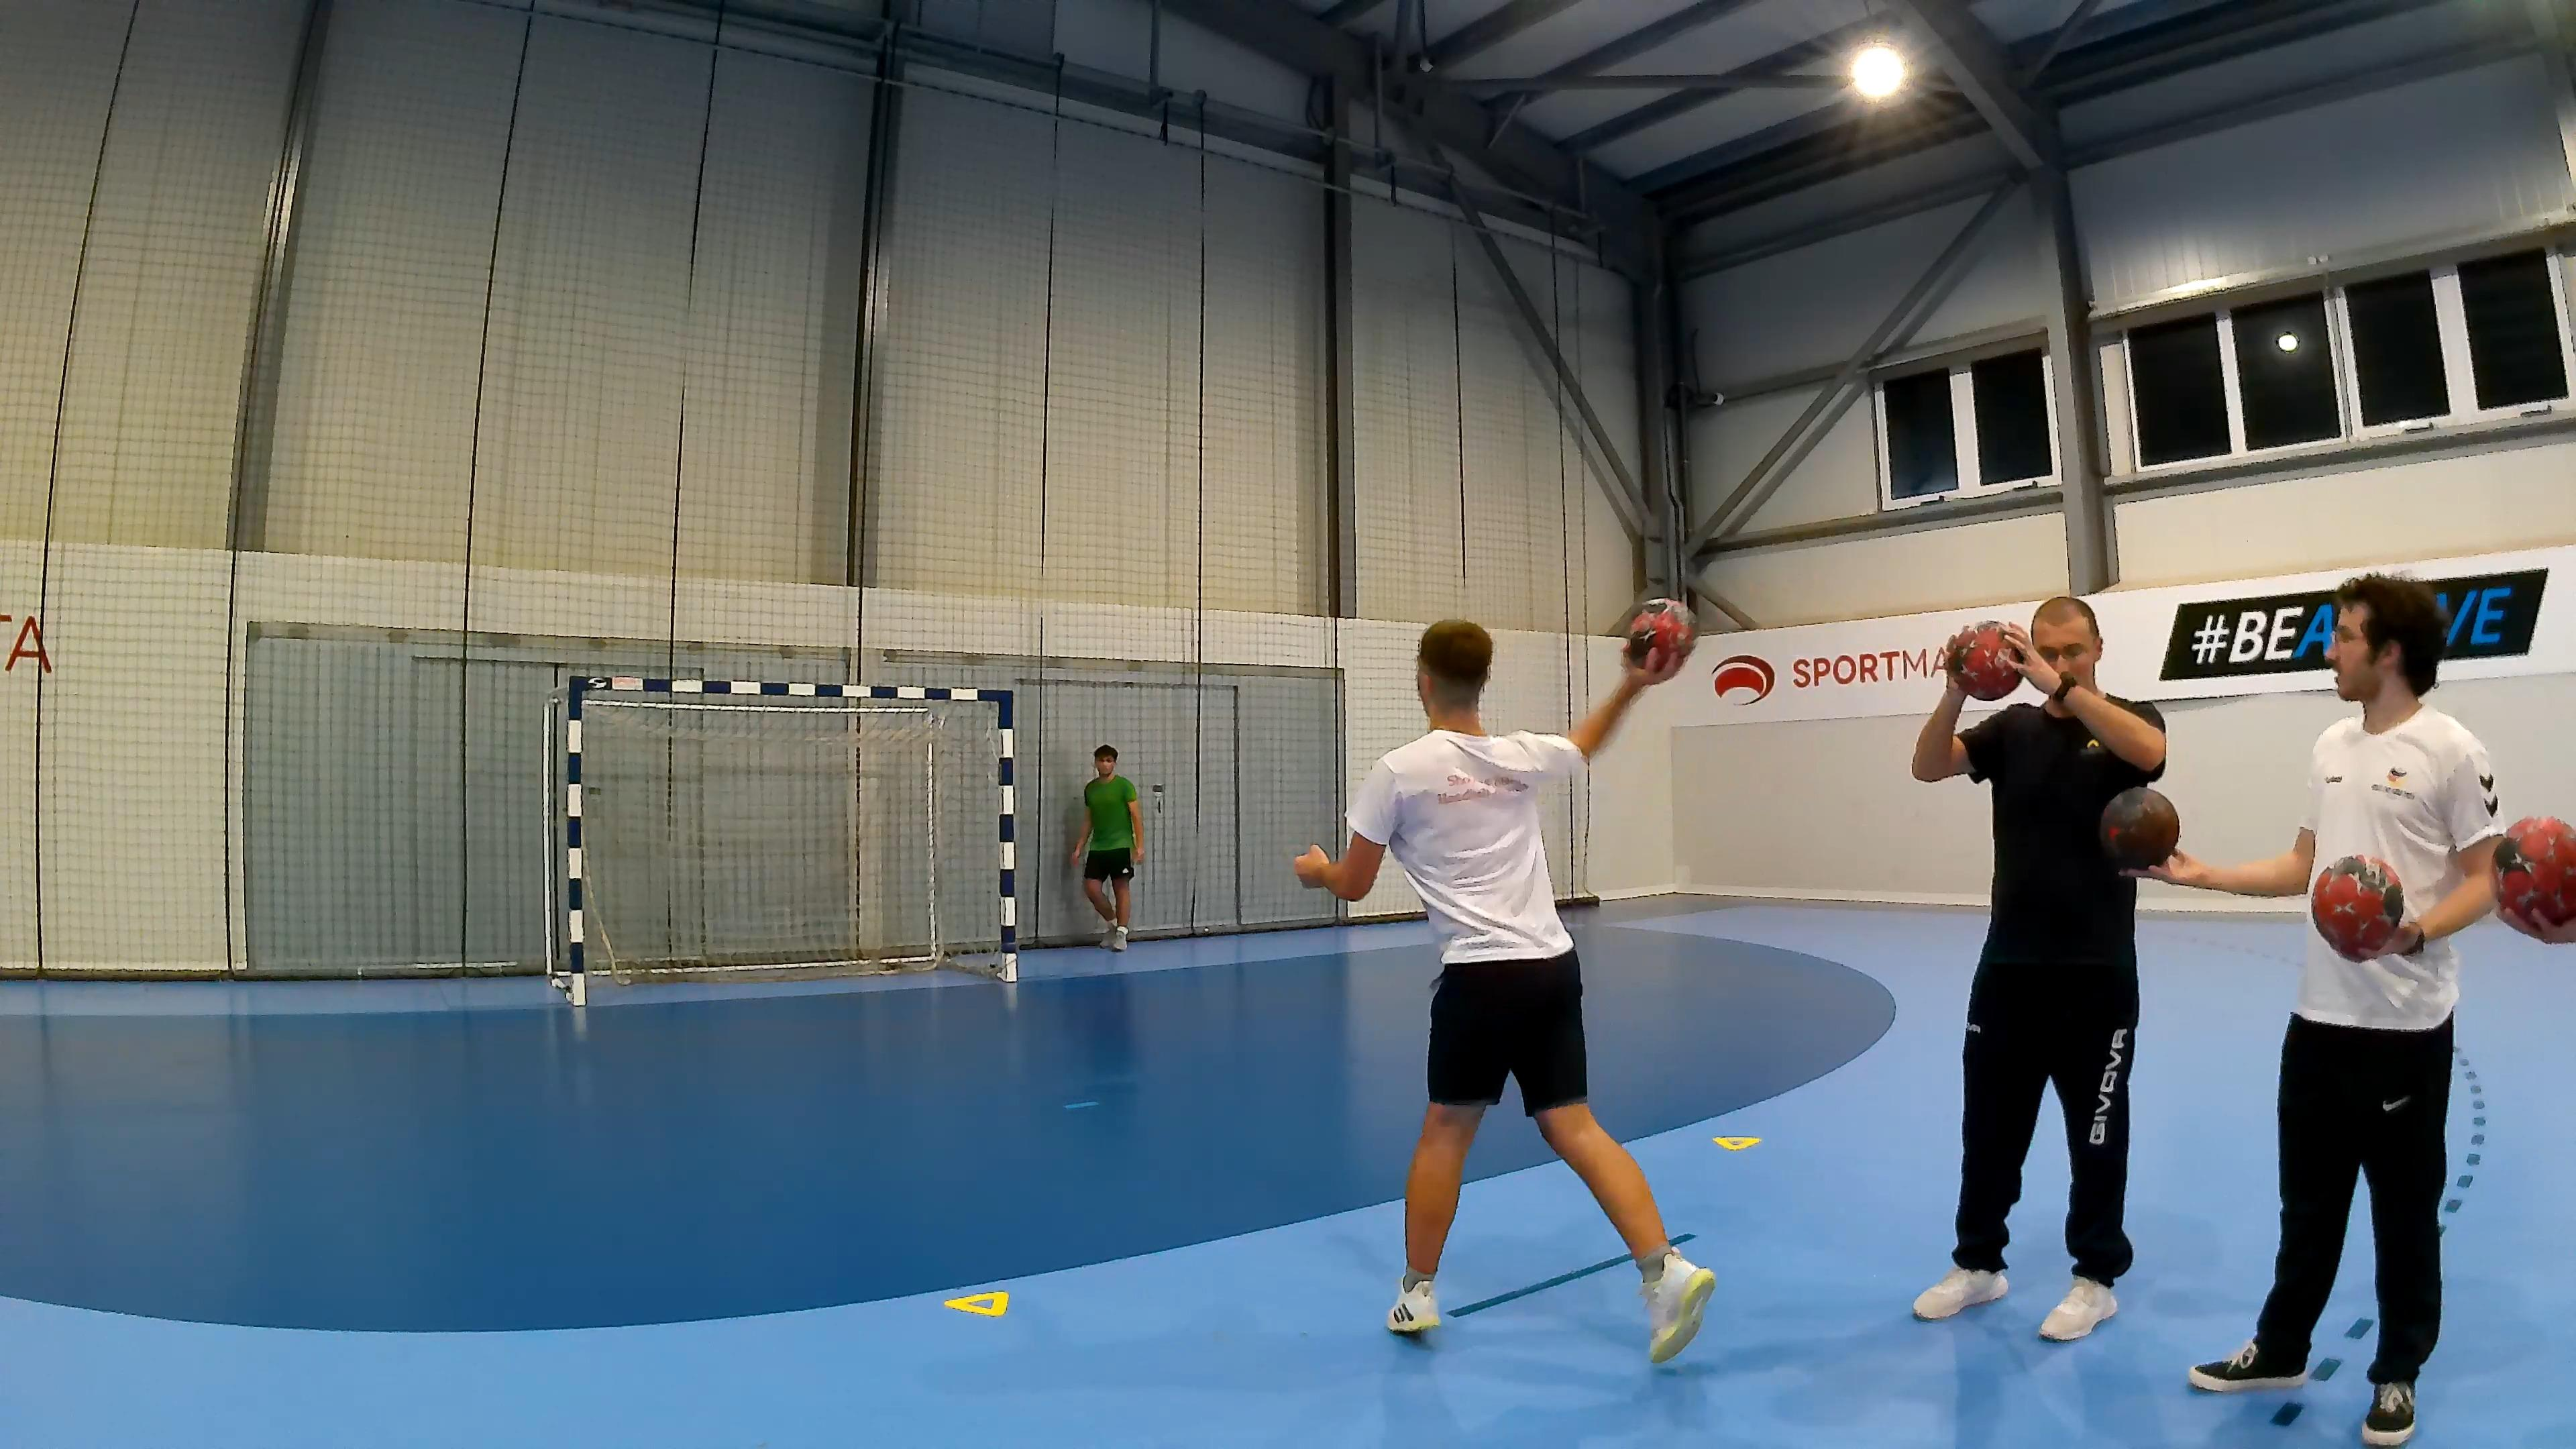handball: (2309, 853, 2404, 962), (2493, 814, 2574, 934), (2098, 786, 2180, 872), (1941, 619, 2026, 701), (1626, 596, 1697, 671)
